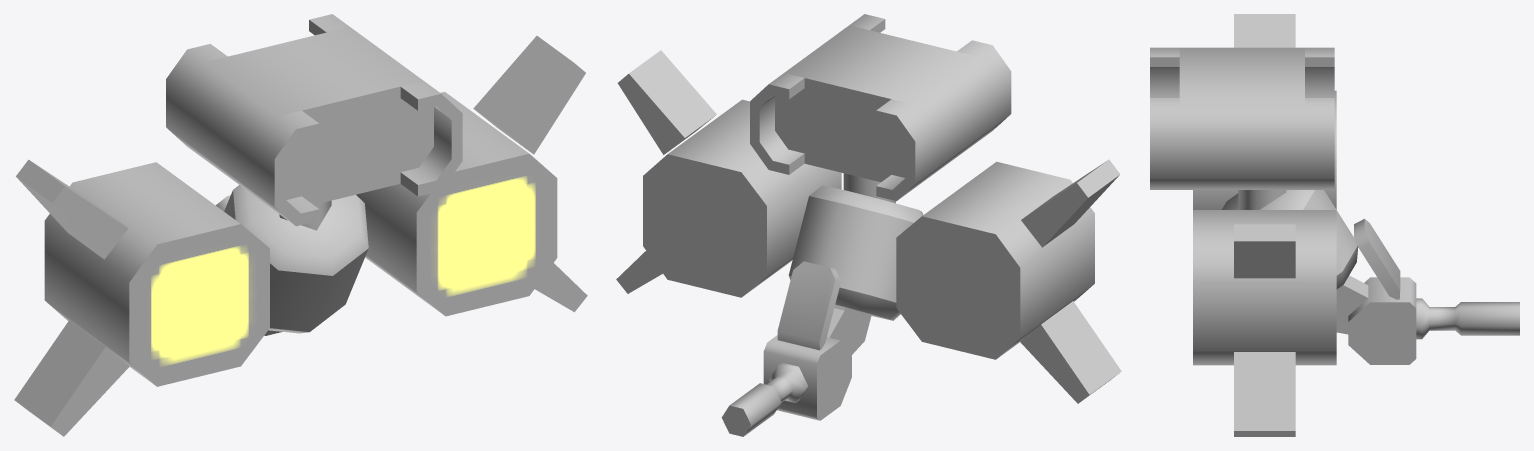
Rendered from Enemy_Rocket.gltf.
3 views of the same model, side by side, from view 1: azimuth 30°, elevation 25°; view 2: azimuth 150°, elevation 25°; view 3: azimuth 270°, elevation 25° (orthographic). The views are drawn at different scales.
Parts seen in each view (by area): view 1: imported_Meshes; view 2: imported_Meshes; view 3: imported_Meshes.
Part boxes in pixels (x1,y1,x2,y2): imported_Meshes: (14,14,587,436); imported_Meshes: (616,14,1121,436); imported_Meshes: (1150,14,1519,436).
Size of the model in its own units: 0.2095 by 0.1209 by 0.1474.
